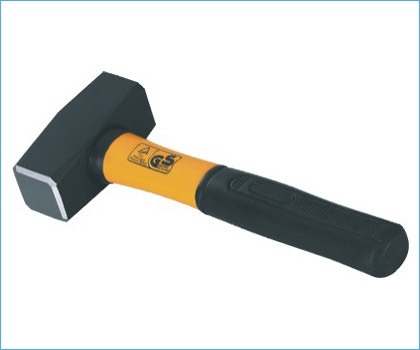hammer: (12, 68, 409, 279)
